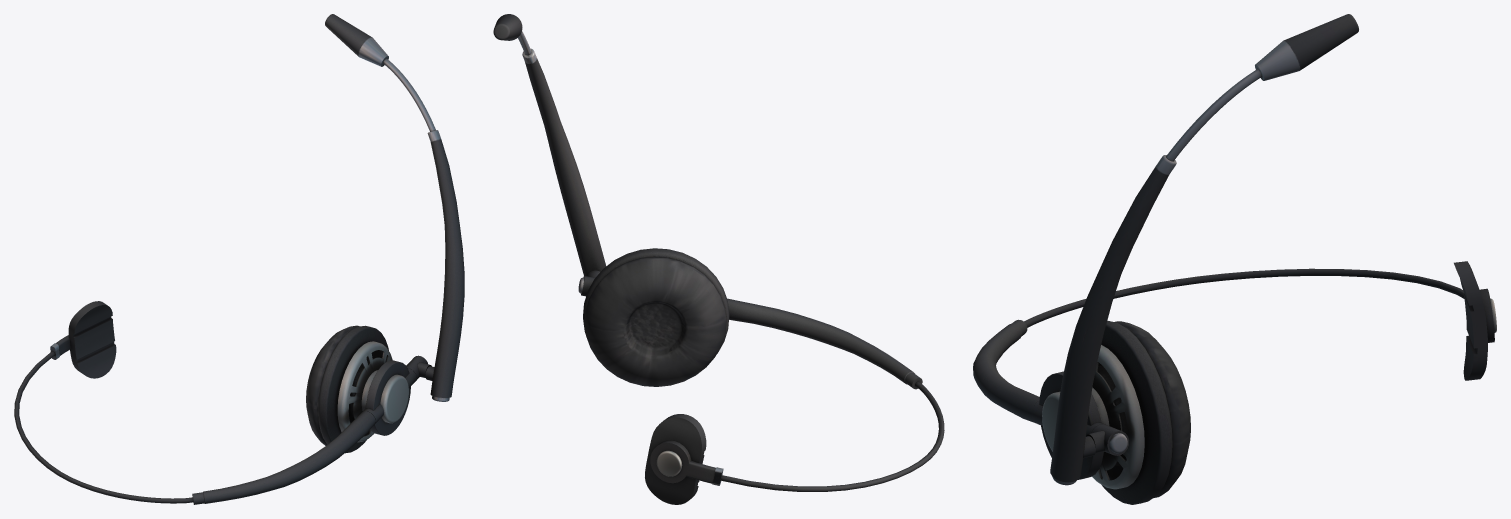
The model's file is model_erji.fbx.
3 views of the same model, side by side, from view 1: azimuth 30°, elevation 25°; view 2: azimuth 150°, elevation 25°; view 3: azimuth 270°, elevation 25° (orthographic). The views are drawn at different scales.
Parts seen in each view (by area): view 1: TXSB.027; view 2: TXSB.027; view 3: TXSB.027.
Part boxes in pixels (x1,y1,x2,y2): TXSB.027: [14, 14, 464, 504]; TXSB.027: [493, 14, 944, 504]; TXSB.027: [973, 14, 1496, 504].
Bounding box in the file's own units: 149 × 138 × 125.
Materials: 1 (1 with a texture image).
